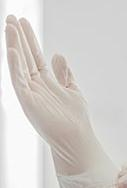gloves: (5, 10, 119, 180)
